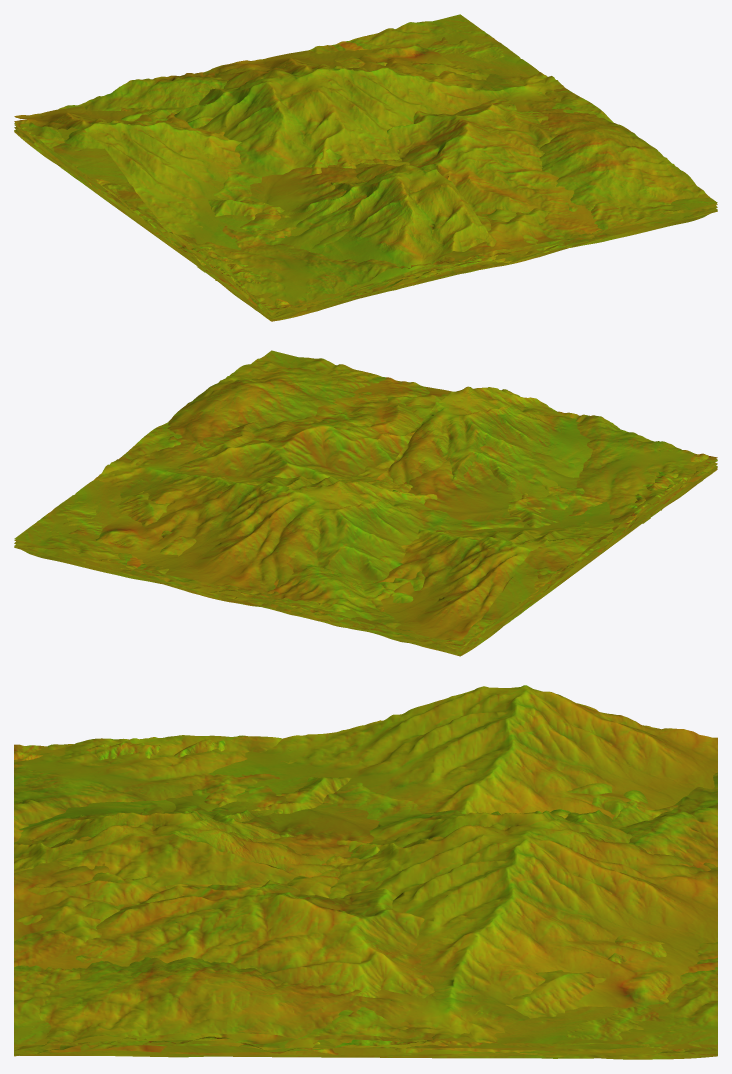
Rendered from DesertSet.FBX.
The picture shows the model from 3 angles, top to bottom: view 1: azimuth 30°, elevation 25°; view 2: azimuth 150°, elevation 25°; view 3: azimuth 270°, elevation 25°; orthographic projection. The views are drawn at different scales.
Parts seen in each view (by area): view 1: DES_TER_B06, DES_TER_B05, DES_TER_B06A, DES_TER_A03, DES_TER_B04, DES_TER_B07, DES_TER_B03, DES_TER_B02, DES_TER_B08, DES_TER_B01, DES_TER_B09, DES_TER_B09A (+3 smaller); view 2: DES_TER_B06, DES_TER_B05, DES_TER_B06A, DES_TER_A03, DES_TER_B04, DES_TER_B07, DES_TER_B02, DES_TER_B03, DES_TER_B08, DES_TER_B09, DES_TER_B01, DES_TER_B09A (+1 smaller); view 3: DES_TER_B06, DES_TER_B06A, DES_TER_B05, DES_TER_B04, DES_TER_A03, DES_TER_B03, DES_TER_B07, DES_TER_B02, DES_TER_B09, DES_TER_B08, DES_TER_B01, DES_TER_A10.
Boxes of the visible parts, <box> form: DES_TER_B06: <box>14,23,717,313</box>; DES_TER_B05: <box>15,14,717,318</box>; DES_TER_B06A: <box>14,106,494,309</box>; DES_TER_A03: <box>143,158,494,316</box>; DES_TER_B04: <box>14,107,717,315</box>; DES_TER_B07: <box>14,56,717,320</box>; DES_TER_B03: <box>14,61,716,311</box>; DES_TER_B02: <box>14,37,717,318</box>; DES_TER_B08: <box>14,41,717,317</box>; DES_TER_B01: <box>14,131,717,315</box>; DES_TER_B09: <box>14,36,717,319</box>; DES_TER_B09A: <box>14,119,494,319</box>; DES_TER_B06: <box>14,358,717,647</box>; DES_TER_B05: <box>14,356,717,655</box>; DES_TER_B06A: <box>237,445,717,640</box>; DES_TER_A03: <box>376,386,713,553</box>; DES_TER_B04: <box>16,411,717,652</box>; DES_TER_B07: <box>14,392,712,651</box>; DES_TER_B02: <box>14,350,716,654</box>; DES_TER_B03: <box>14,386,717,655</box>; DES_TER_B08: <box>14,468,715,654</box>; DES_TER_B09: <box>16,497,677,649</box>; DES_TER_B01: <box>14,464,717,656</box>; DES_TER_B09A: <box>239,468,717,646</box>; DES_TER_B06: <box>14,746,717,1050</box>; DES_TER_B06A: <box>14,685,717,886</box>; DES_TER_B05: <box>14,776,717,1046</box>; DES_TER_B04: <box>14,735,717,1055</box>; DES_TER_A03: <box>14,800,339,879</box>; DES_TER_B03: <box>14,751,717,1059</box>; DES_TER_B07: <box>14,772,717,1056</box>; DES_TER_B02: <box>14,967,717,1055</box>; DES_TER_B09: <box>14,957,717,1056</box>; DES_TER_B08: <box>14,739,717,1057</box>; DES_TER_B01: <box>14,1048,717,1058</box>; DES_TER_A10: <box>88,739,225,759</box>.
Size of the model in its own units: 100001 by 12949 by 100000.
